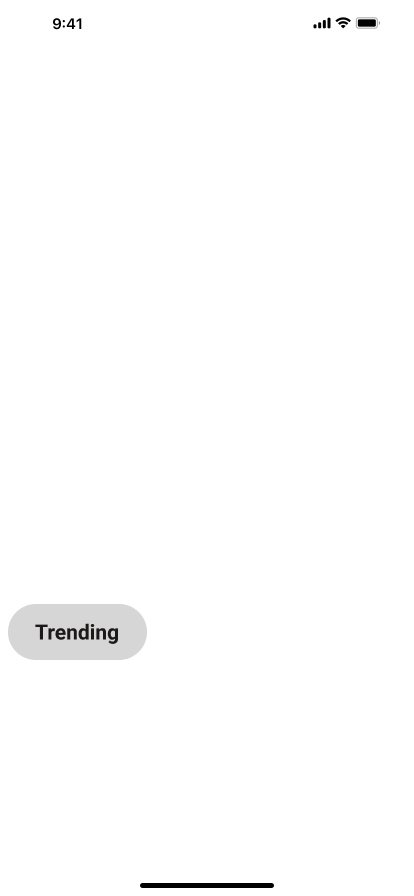Buttons: (8, 604, 155, 660)
Home Indicator: (0, 862, 414, 896)
Status Bar: (0, 0, 414, 44)
